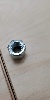Nut: (5, 37, 27, 61)
